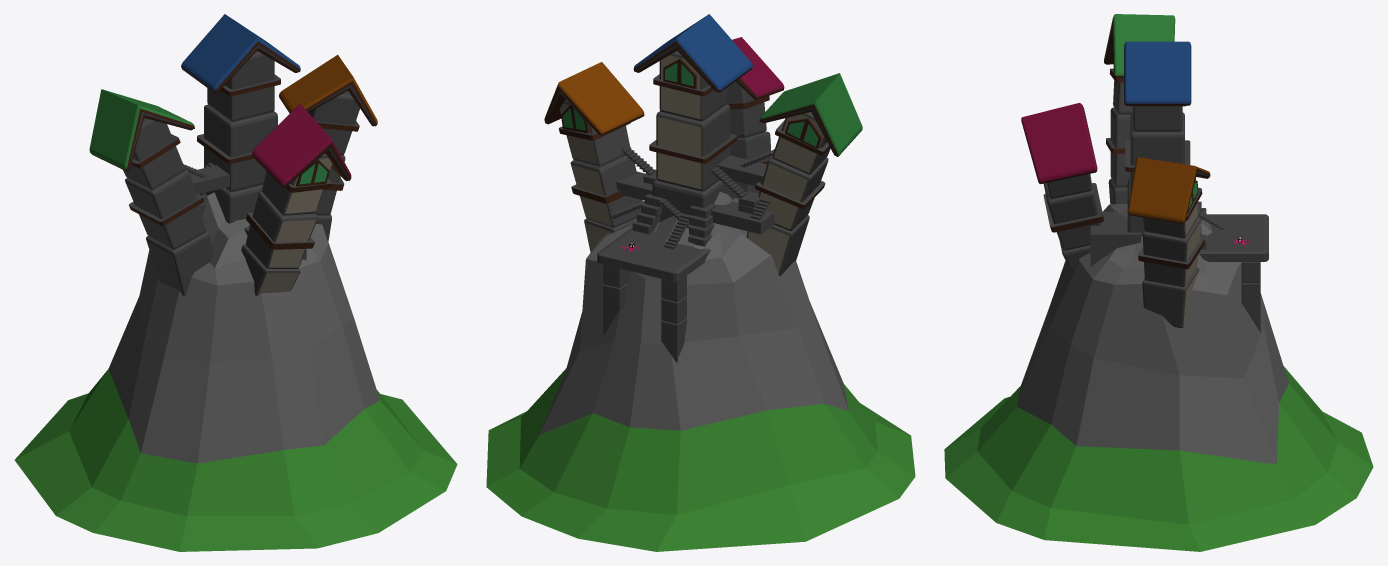
The model's file is island_Odonhull.gltf.
3 views of the same model, side by side, from view 1: azimuth 30°, elevation 25°; view 2: azimuth 150°, elevation 25°; view 3: azimuth 270°, elevation 25° (orthographic). The views are drawn at different scales.
Parts seen in each view (by area): view 1: Plane, Stone.039, Stone.033, Stone.058, Stone.038, Cube.025, Stone.040; view 2: Plane, Stone.033, Stone.039, Stone.038, Stone.058, Stone.041, Cube.034, Cube.025, Stone.043, Stone.047, Stone.055, Stone.057 (+4 smaller); view 3: Plane, Stone.038, Stone.033, Stone.058, Stone.039, Stone.041, Cube.033, Stone.043.
Part boxes in pixels (x1,y1,x2,y2): Plane: (14, 192, 457, 551); Stone.039: (89, 89, 213, 296); Stone.033: (181, 14, 300, 223); Stone.058: (241, 104, 351, 295); Stone.038: (279, 54, 377, 241); Cube.025: (190, 165, 229, 193); Stone.040: (296, 159, 329, 186); Plane: (486, 191, 915, 551); Stone.033: (633, 14, 752, 221); Stone.039: (746, 73, 862, 276); Stone.038: (544, 62, 644, 252); Stone.058: (726, 37, 784, 193); Stone.041: (597, 227, 710, 282); Cube.034: (711, 201, 775, 234); Cube.025: (717, 155, 766, 185); Stone.043: (603, 282, 628, 335); Stone.047: (661, 318, 686, 362); Stone.055: (663, 58, 696, 88); Stone.057: (785, 118, 821, 148); Plane: (944, 203, 1373, 551); Stone.038: (1128, 157, 1210, 327); Stone.033: (1124, 41, 1191, 235); Stone.058: (1021, 103, 1103, 272); Stone.039: (1104, 14, 1175, 204); Stone.041: (1198, 214, 1268, 261); Cube.033: (1090, 211, 1141, 266); Stone.043: (1241, 282, 1260, 332).
Bounding box in the file's own units: 237 × 260 × 238.
